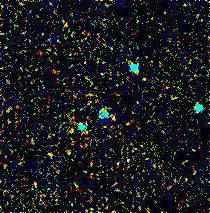star: (100, 104, 130, 134)
